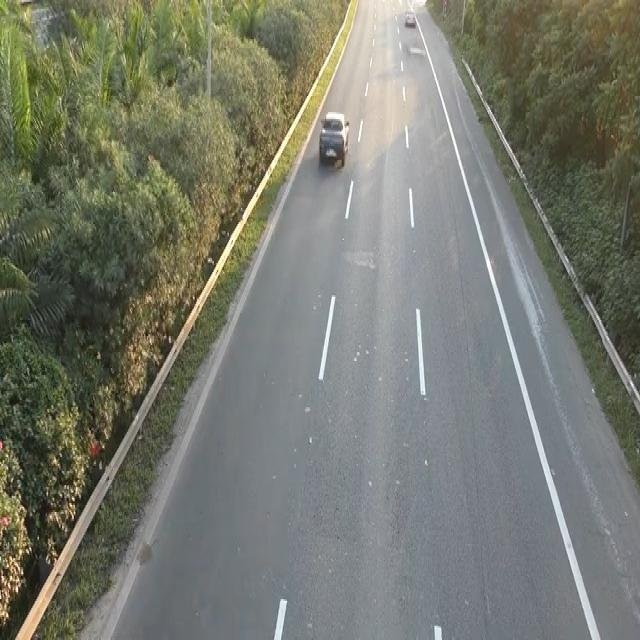car: (317, 108, 351, 169)
